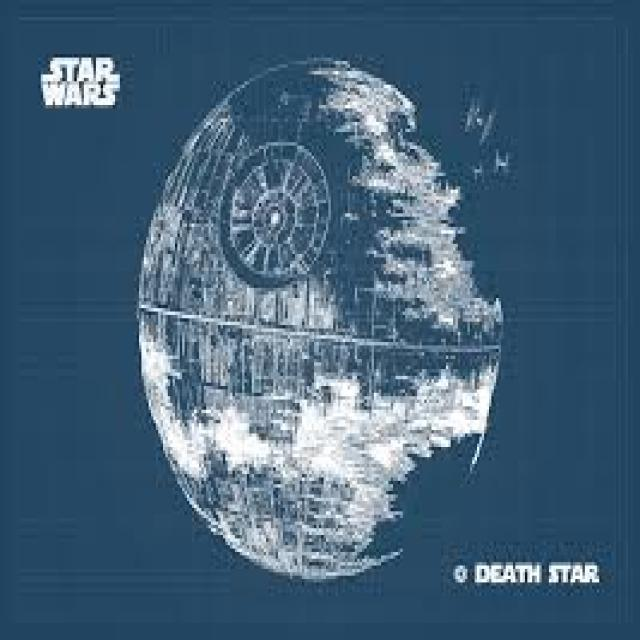deathStar: (138, 59, 512, 590)
